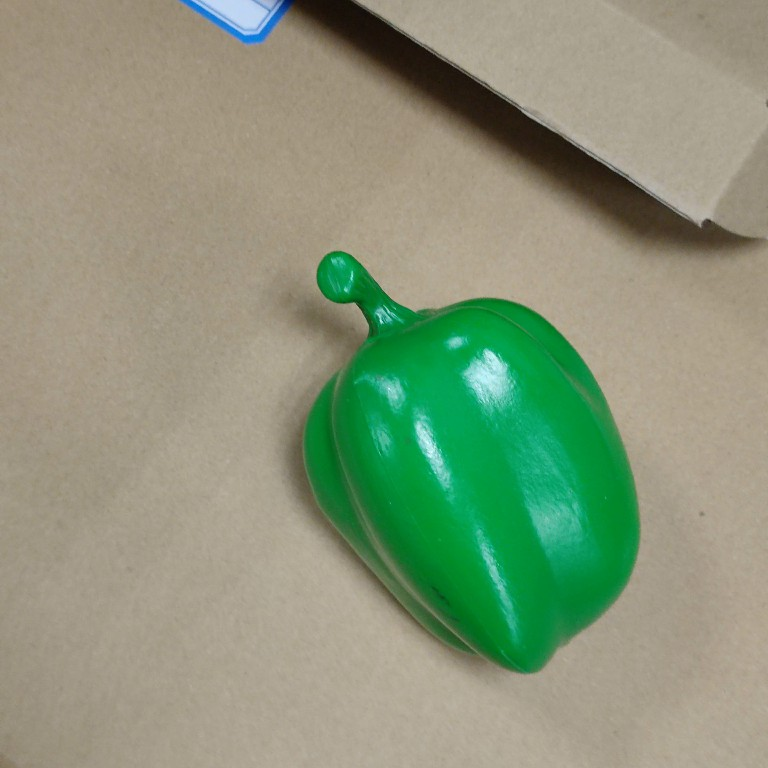fruit_pepper: (293, 245, 646, 679)
